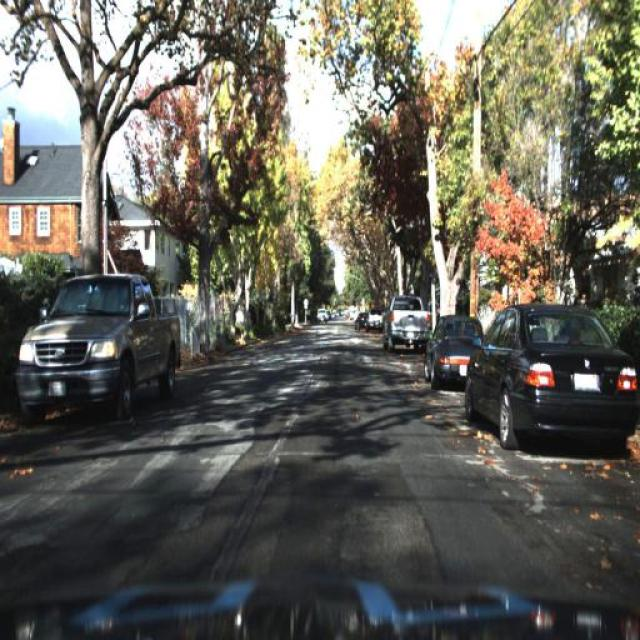car: (468, 296, 640, 442), (16, 272, 180, 408), (418, 310, 472, 391), (422, 313, 484, 383), (381, 293, 430, 358), (385, 293, 426, 353), (363, 302, 382, 338), (355, 310, 366, 332)
